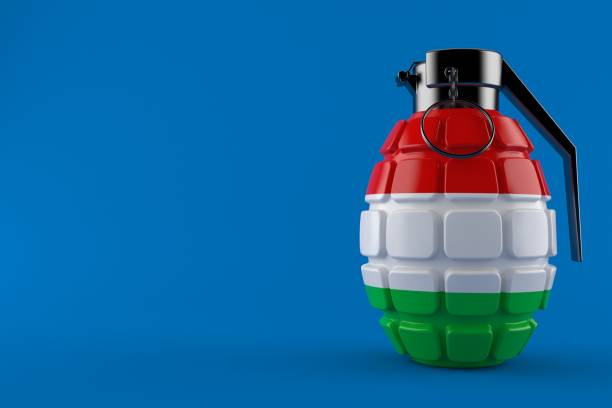e1: (351, 48, 584, 371)
